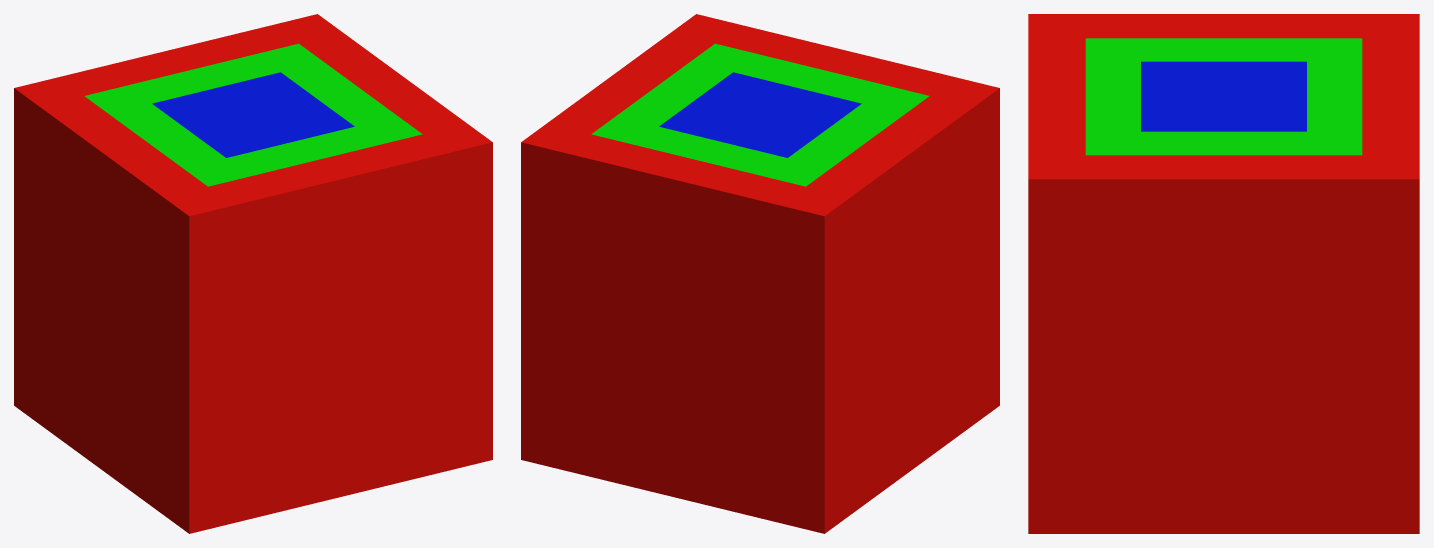
Rendered from half_bloc.fbx.
3 views of the same model, side by side, from view 1: azimuth 30°, elevation 25°; view 2: azimuth 150°, elevation 25°; view 3: azimuth 270°, elevation 25° (orthographic). The views are drawn at different scales.
Parts seen in each view (by area): view 1: half_bloc_template; view 2: half_bloc_template; view 3: half_bloc_template.
Part boxes in pixels (<box>): half_bloc_template: <box>14,14,492,533</box>; half_bloc_template: <box>521,14,999,533</box>; half_bloc_template: <box>1028,14,1419,533</box>.
Size of the model in its own units: 100 by 100 by 100.
